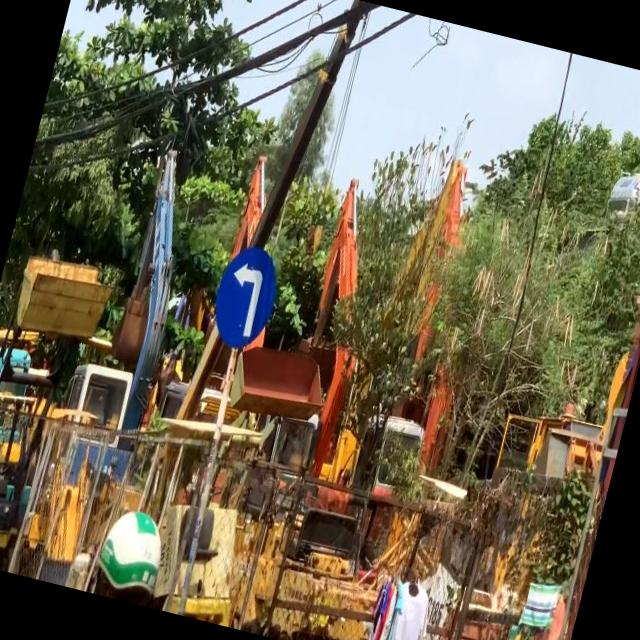R-301e: (206, 242, 284, 354)
